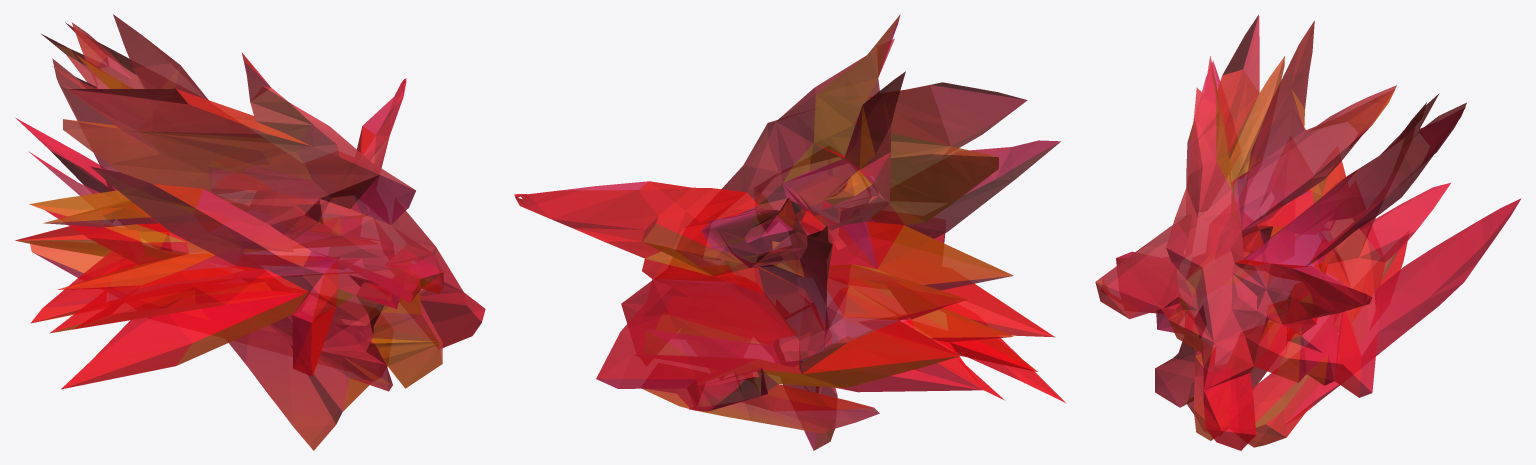
File: DragonSpawn_Extractable3.glb
3 renders of one model, left to right at view 1: azimuth 30°, elevation 25°; view 2: azimuth 150°, elevation 25°; view 3: azimuth 270°, elevation 25°, orthographic. The views are drawn at different scales.
Visible parts, largest first — view 1: Extractable3; view 2: Extractable3; view 3: Extractable3.
Boxes of the visible parts, x1,y1,x2,y2 form: Extractable3: (15, 14, 485, 450); Extractable3: (514, 14, 1065, 450); Extractable3: (1095, 14, 1521, 450).
Size of the model in its own units: 1.36 by 1.29 by 1.39.
Materials: 1 (1 with a texture image).
